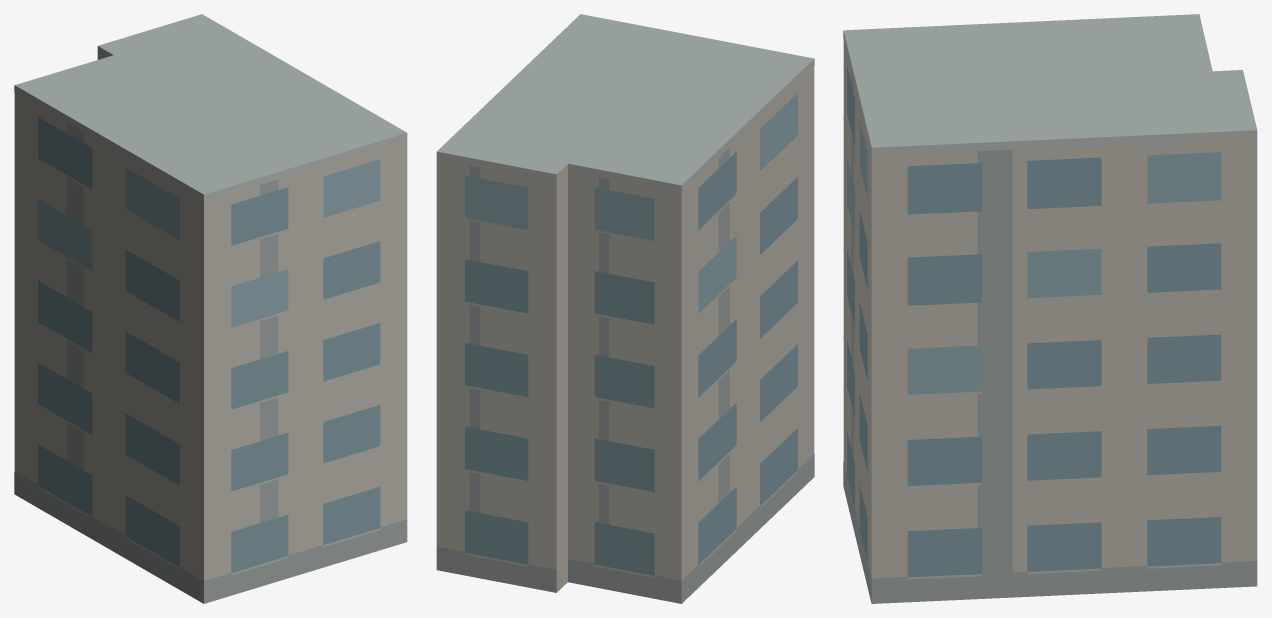
File: survey-upis-32563762.glb
3 views of the same model, side by side, from view 1: azimuth 30°, elevation 25°; view 2: azimuth 150°, elevation 25°; view 3: azimuth 270°, elevation 25° (orthographic). The views are drawn at different scales.
Visible parts, largest first — view 1: survey-upis-32563762.tmp; view 2: survey-upis-32563762.tmp; view 3: survey-upis-32563762.tmp.
Boxes of the visible parts, x1,y1,x2,y2 form: survey-upis-32563762.tmp: [14, 14, 407, 603]; survey-upis-32563762.tmp: [436, 14, 814, 603]; survey-upis-32563762.tmp: [843, 14, 1257, 603].
Size of the model in its own units: 8.37 by 13.3 by 10.95.
